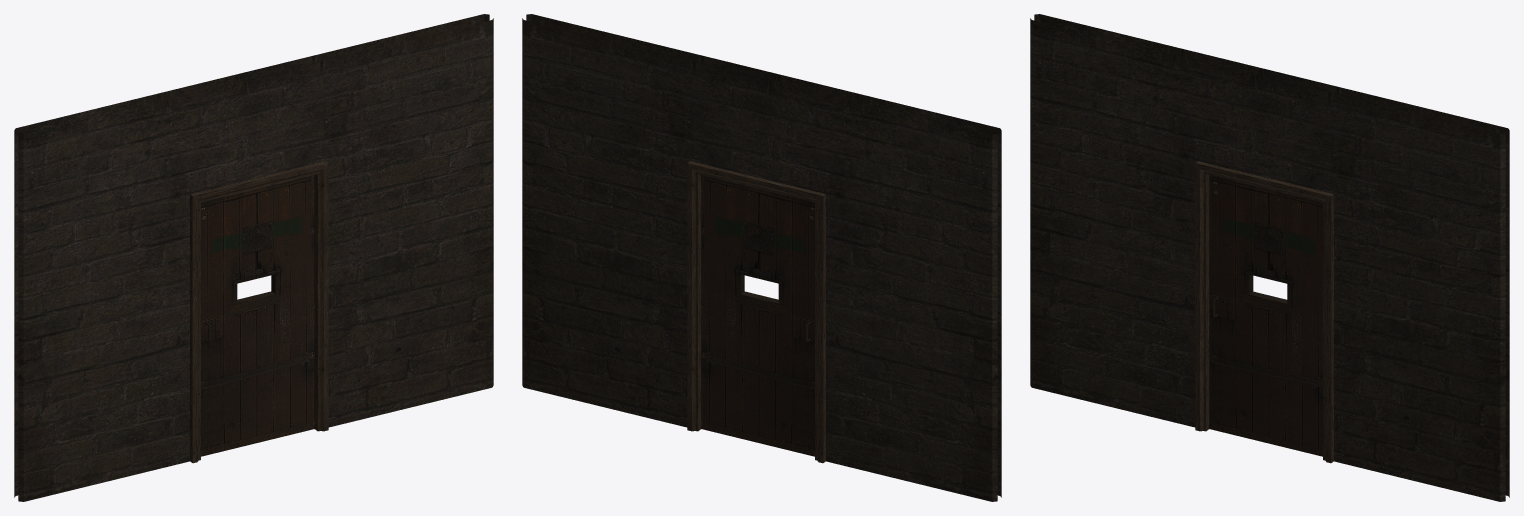
File: doorway_1_plain.obj
3 views of the same model, side by side, from view 1: azimuth 30°, elevation 25°; view 2: azimuth 150°, elevation 25°; view 3: azimuth 330°, elevation 25° (orthographic).
Parts seen in each view (by area): view 1: doorway_1_plain, door_mp_6; view 2: doorway_1_plain, door_mp_6; view 3: doorway_1_plain, door_mp_6.
Boxes of the visible parts, <box> form: doorway_1_plain: <box>14,14,493,501</box>; door_mp_6: <box>201,175,314,456</box>; doorway_1_plain: <box>522,14,1001,501</box>; door_mp_6: <box>701,175,814,456</box>; doorway_1_plain: <box>1030,14,1509,501</box>; door_mp_6: <box>1209,175,1322,456</box>.
Size of the model in its own units: 4.06 by 3 by 0.2.
